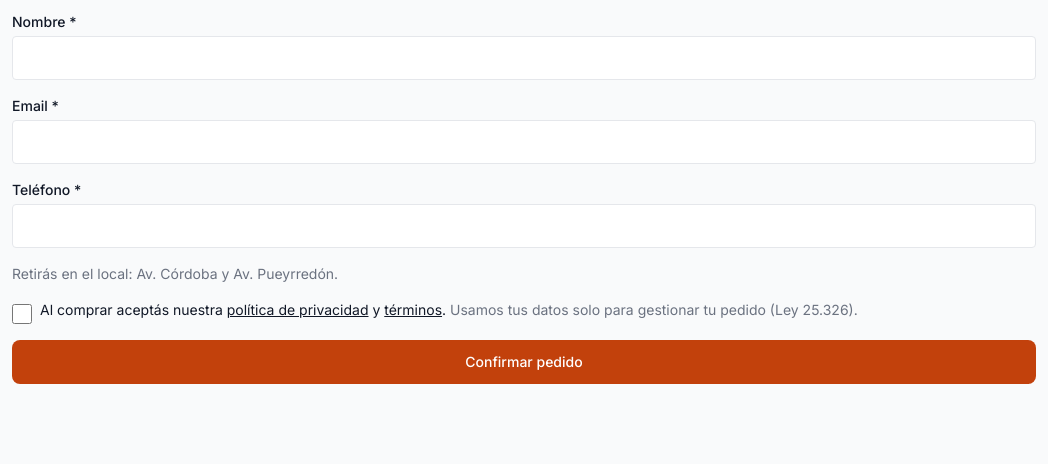
it: CheckoutForm — errores del servidor (D5) › 409 cart-not-purchasable: banner + link a /carrito
Type "Ana Gómez" into the field labelled "Nombre *" at (524, 58), box [12,36,1036,80]
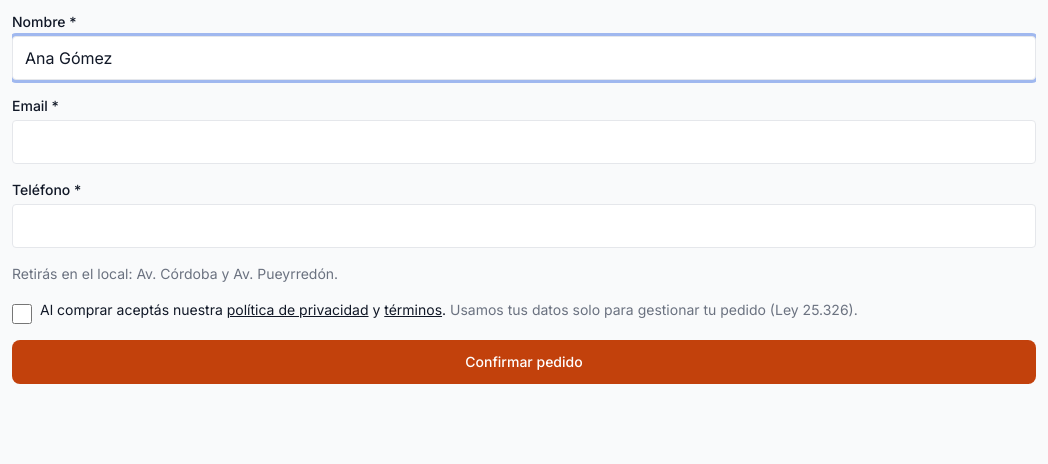
Type "ana@example.com" into the field labelled "Email *" at (524, 142), box [12,120,1036,164]
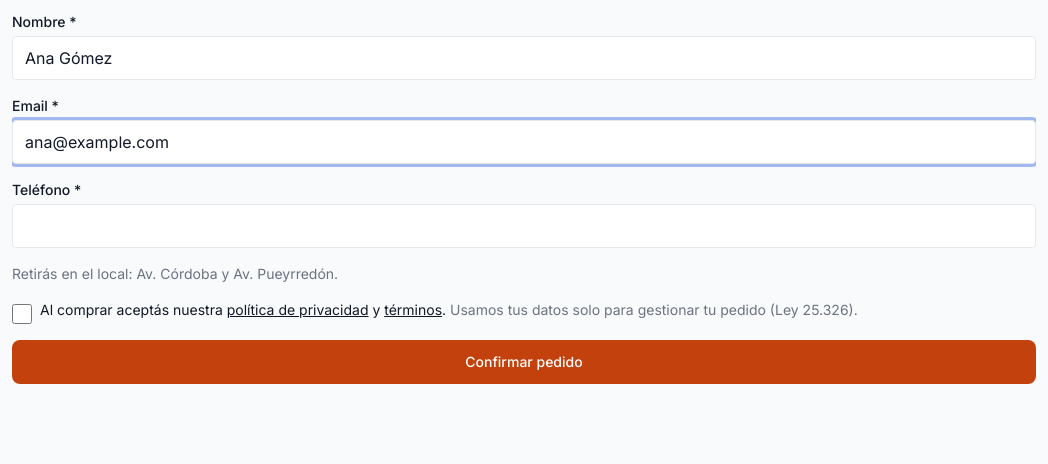
Type "+54 9 11 5555 5555" into the field labelled "Teléfono *" at (524, 226), box [12,204,1036,248]
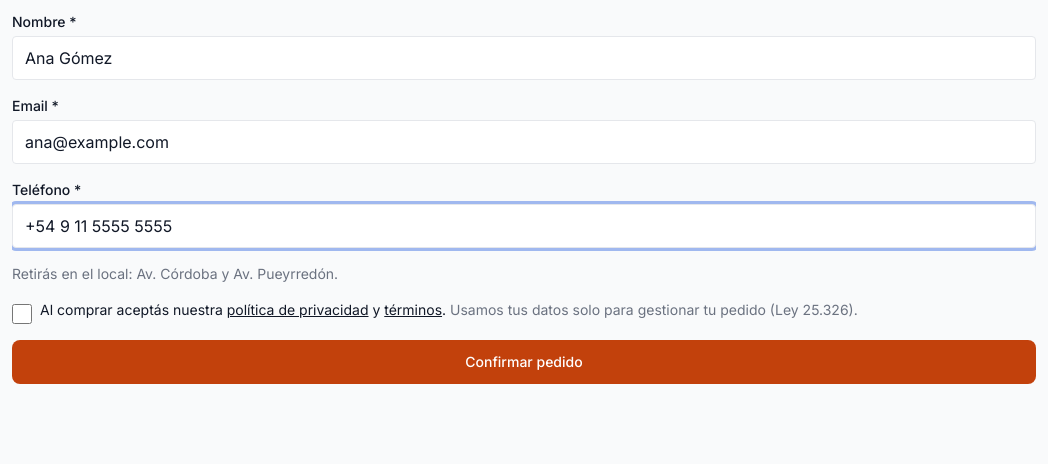
Click the checkbox at (22, 314), box [12,304,32,324]
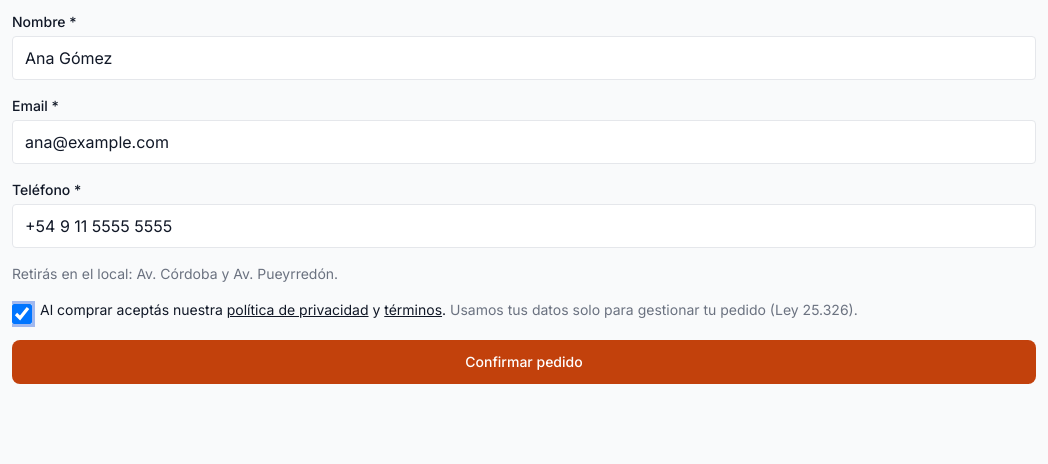
Click the button "Confirmar pedido" at (524, 362), box [12,340,1036,384]
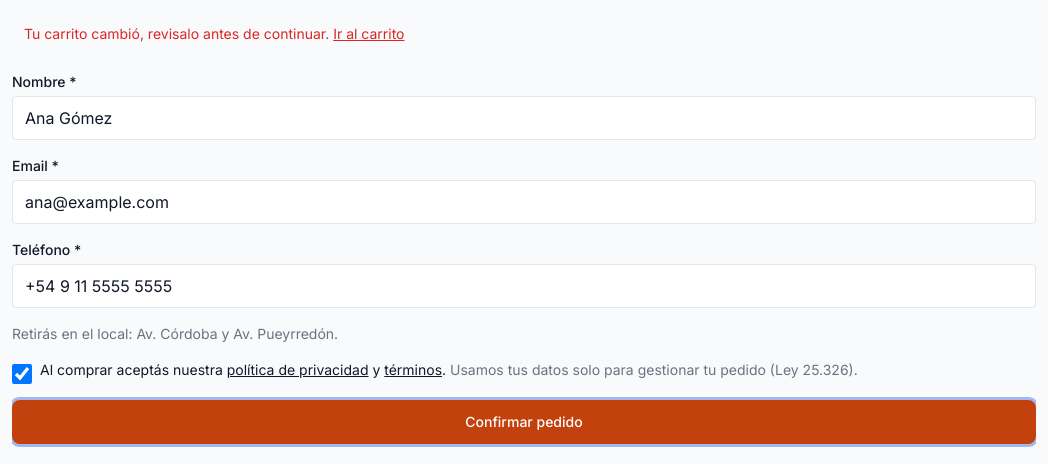
Check: the message shows "carrito cambió", box [24,25,329,42]
